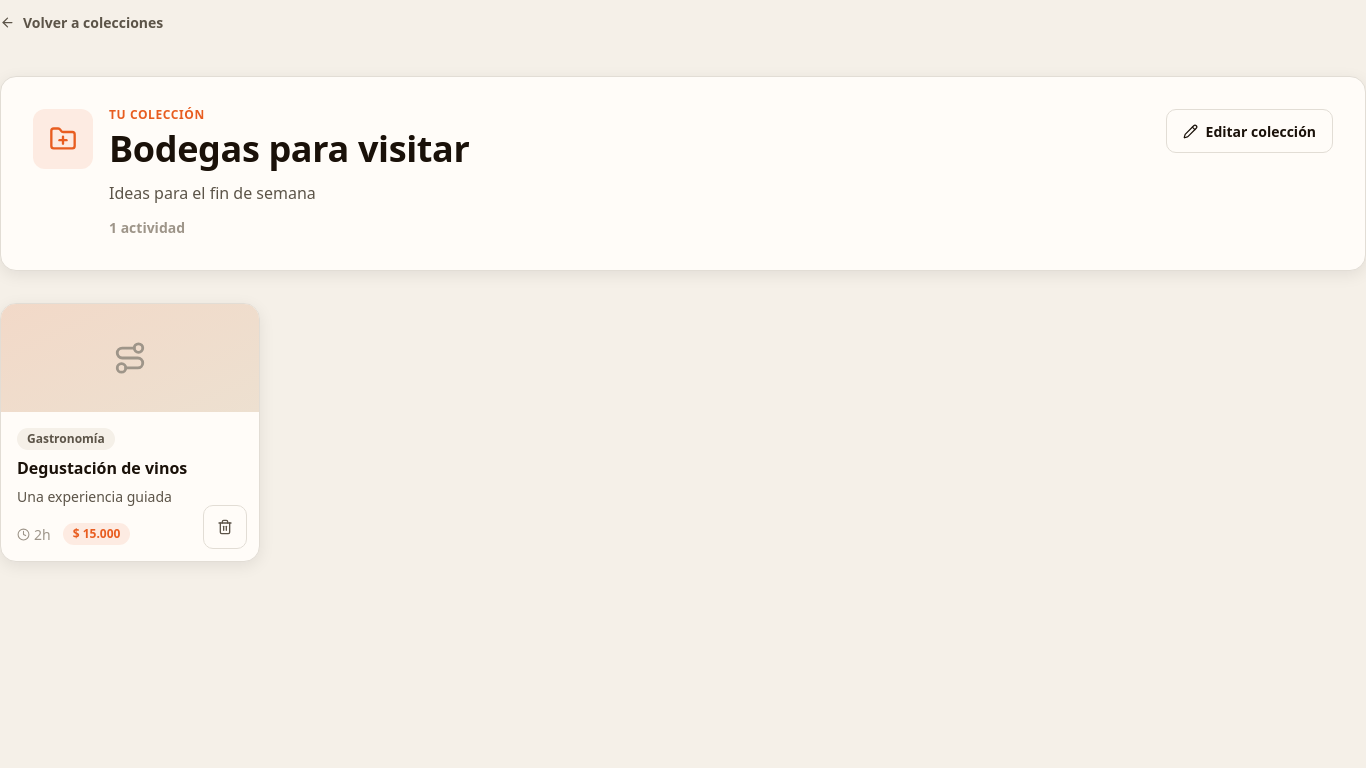
Test: CollectionDetailView › keeps the activity visible when removal fails
The image size is (1366, 768).
Click the button named "Quitar Degustación de vinos de la colección". click: (225, 528)
box: [203,506,247,550]
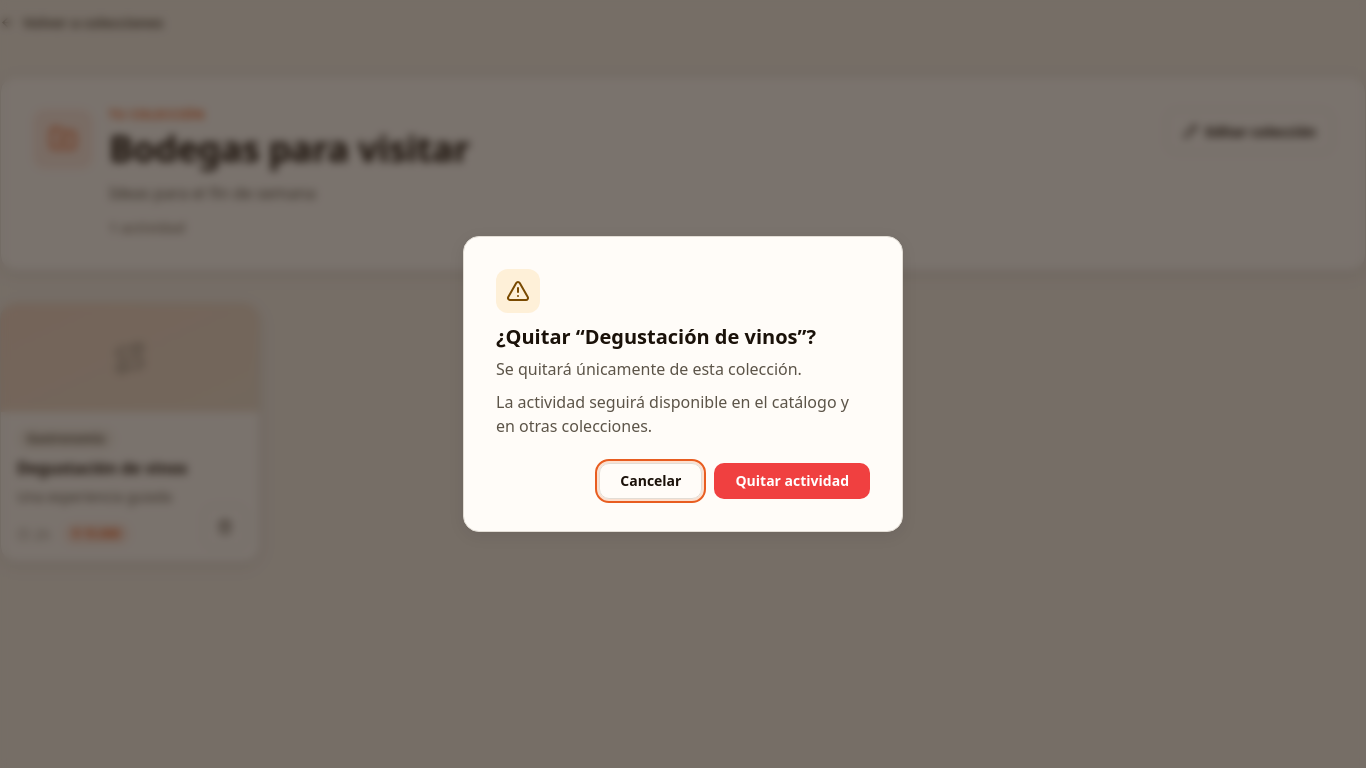
Click the button "Quitar actividad". click: (792, 481)
box: [714,463,870,499]
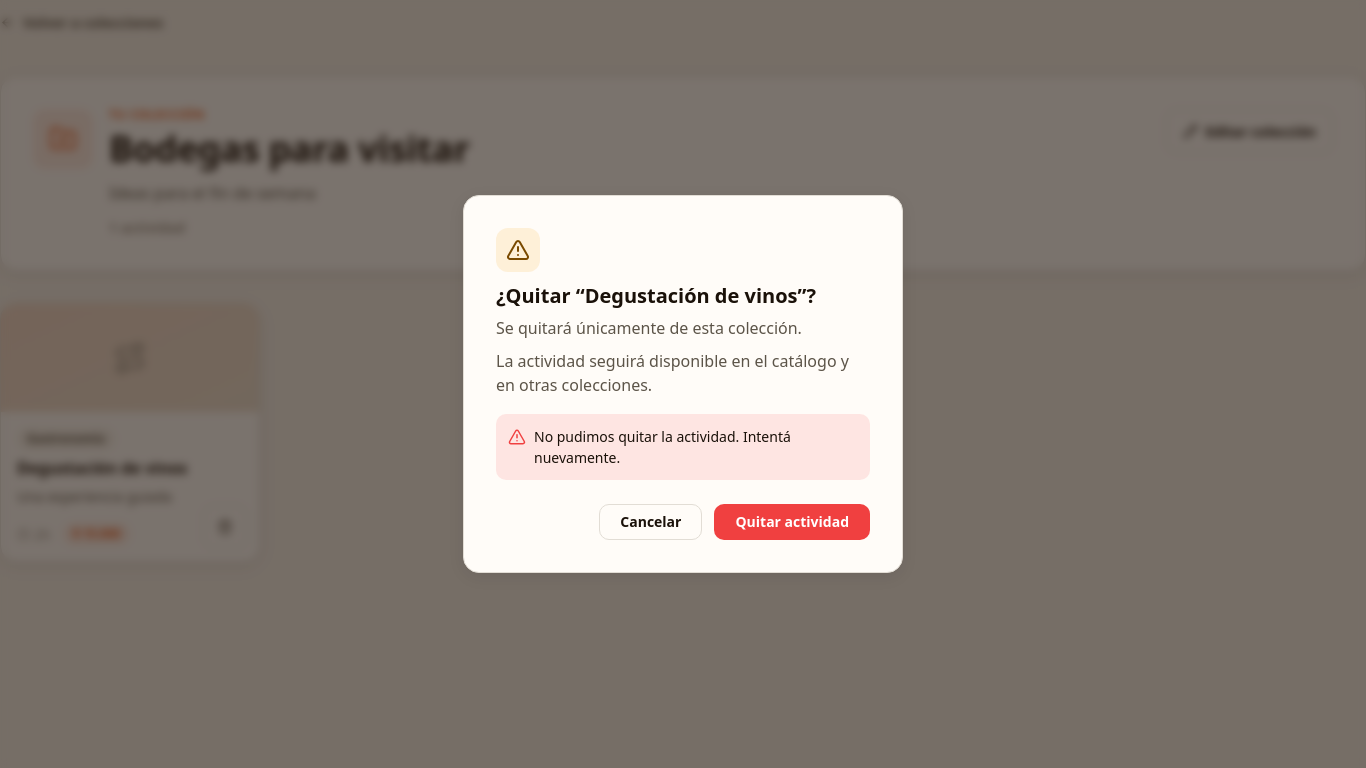
Expected: the text "Degustación de vinos" is shown, [17,458,187,479]
Now the text "No pudimos quitar la actividad. Intentá nuevamente." is shown, box [496,414,870,480]
